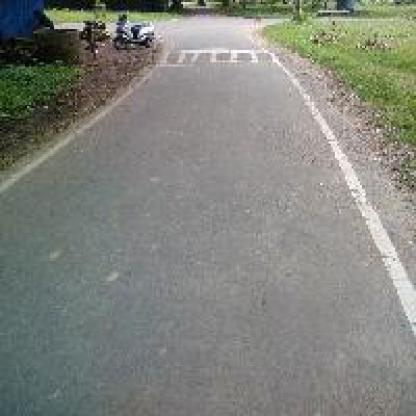Speed Bump: (160, 48, 277, 66)
